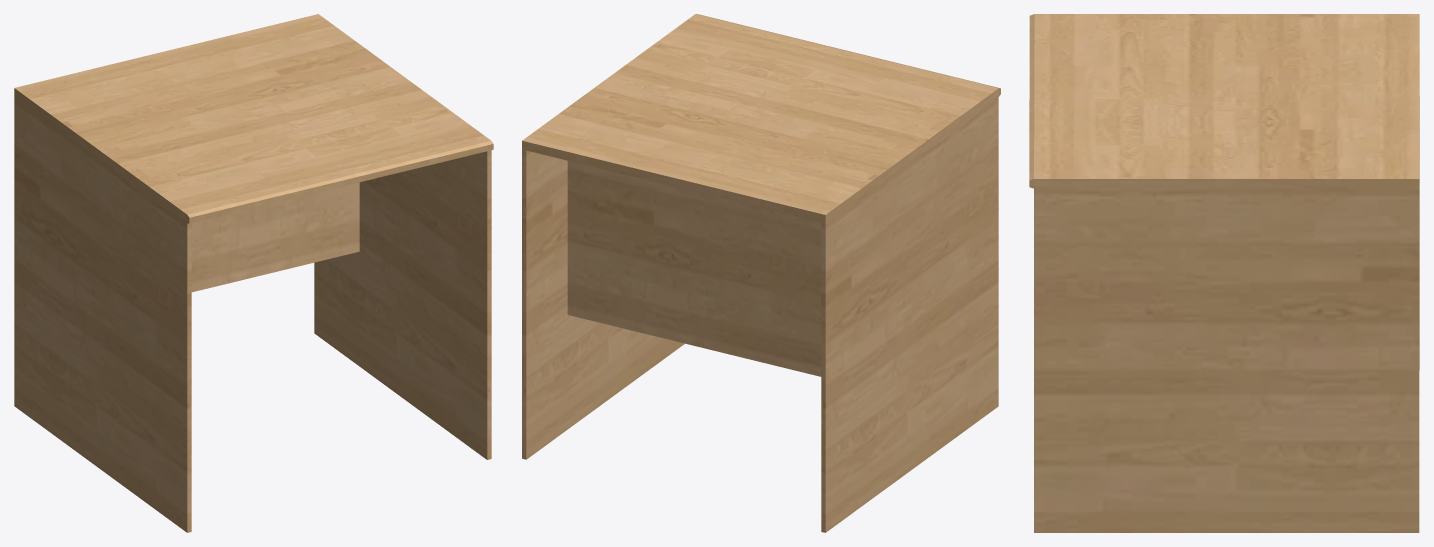
Rendered from sh-bsby-simple-desk.glb.
3 views of the same model, side by side, from view 1: azimuth 30°, elevation 25°; view 2: azimuth 150°, elevation 25°; view 3: azimuth 270°, elevation 25° (orthographic). The views are drawn at different scales.
Visible parts, largest first — view 1: Desk; view 2: Desk; view 3: Desk.
Boxes of the visible parts, x1,y1,x2,y2 form: Desk: (14,14,493,532); Desk: (522,14,1000,532); Desk: (1029,14,1419,532).
Bounding box in the file's own units: 1 × 1 × 1.
1 material, 1 textured.
